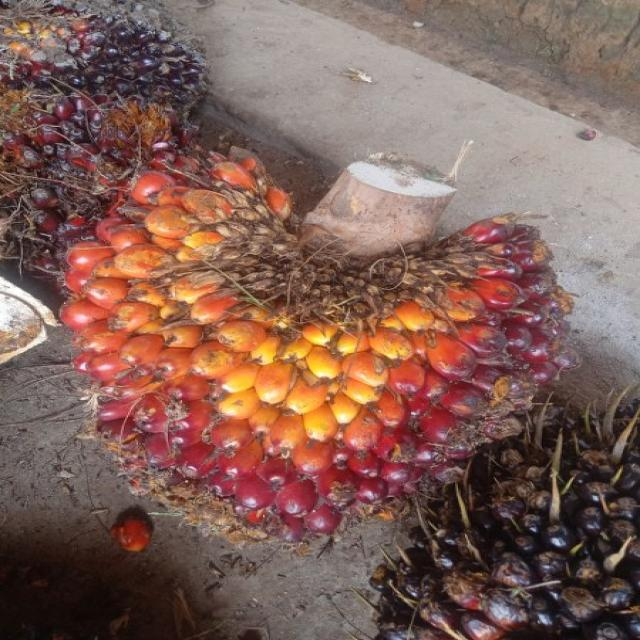fraksi 3: (38, 91, 600, 608)
